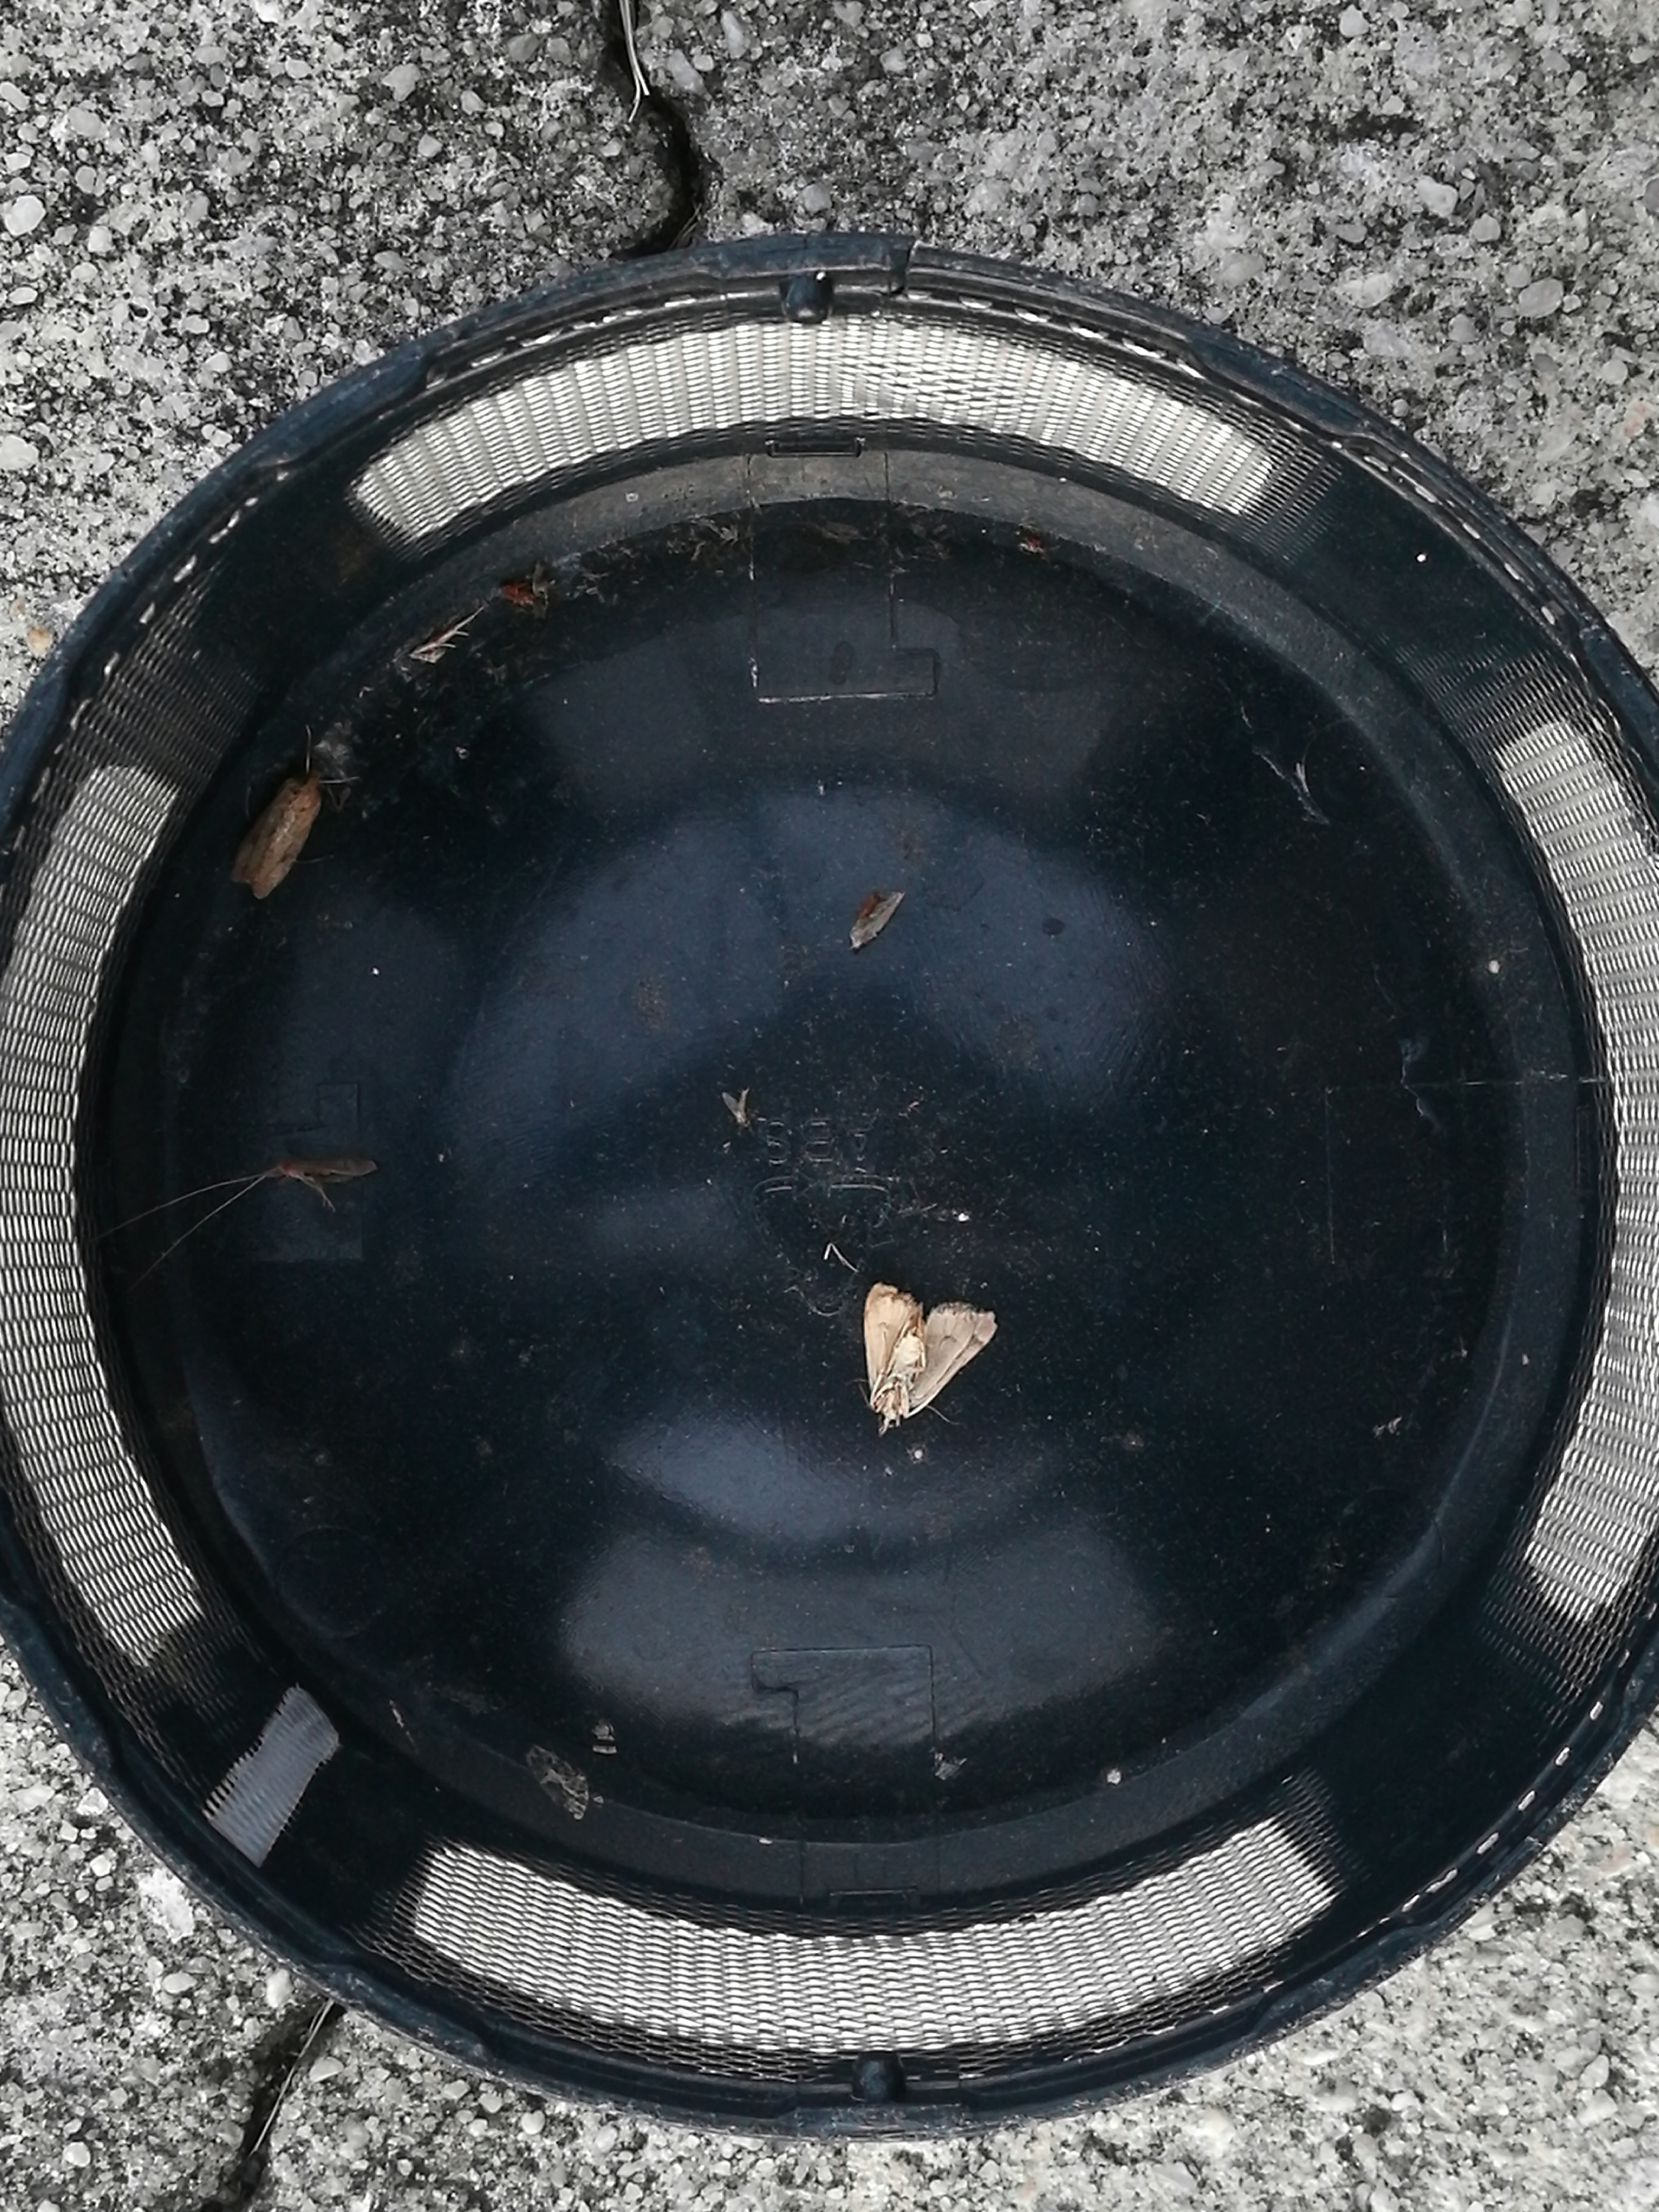mosquito: (281, 1153, 373, 1184)
moth: (864, 1287, 993, 1426), (230, 773, 317, 897)
